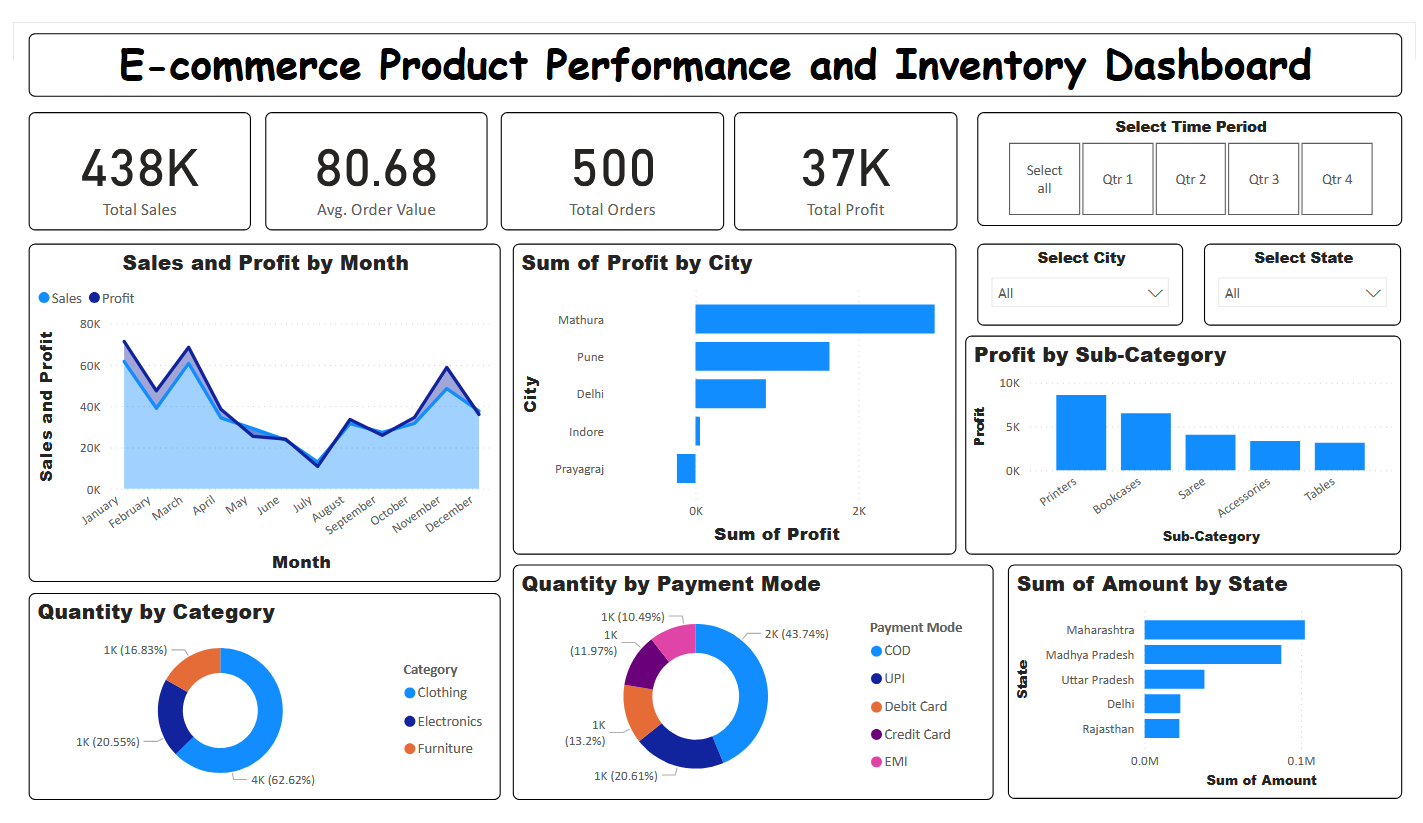

Layout of this report page (visuals, bound fields, positions):
{"tool":"powerbi","page":{"name":"Page 1","canvas":[1280,720],"ordinal":0},"visuals":[{"type":"textbox","box":[13.8,10,1253.8,57.5],"z":0},{"type":"stackedAreaChart","fields":{"Category":["Orders.Order Date.Variation.Date Hierarchy.Month"],"Y":["Sum(Details.Amount)","Sum(Details.Profit)"]},"box":[14.3,202.4,431,308.3],"z":1000},{"type":"columnChart","fields":{"Category":["Details.Sub-Category"],"Y":["Sum(Details.Profit)"]},"box":[869.1,285.7,397.6,200],"z":2000},{"type":"donutChart","fields":{"Category":["Details.Category"],"Y":["Sum(Details.Quantity)"]},"box":[13.8,521.2,431.2,188.8],"z":3000},{"type":"donutChart","fields":{"Category":["Details.PaymentMode"],"Y":["Sum(Details.Quantity)"]},"box":[456,495.2,439.3,214.3],"z":4000},{"type":"card","fields":{"Values":["Count(Details.Order ID)"]},"box":[445.2,82.1,203.6,108.3],"z":5000},{"type":"card","fields":{"Values":["Sum(Details.Amount)"]},"box":[14.3,82.1,202.4,108.3],"z":6000},{"type":"card","fields":{"Values":["Sum(Details.Profit)"]},"box":[658.3,82.1,203.6,108.3],"z":7000},{"type":"card","fields":{"Values":["Avg(Details.AOV)"]},"box":[229.8,82.1,203.6,108.3],"z":8000},{"type":"barChart","fields":{"Category":["Orders.State"],"Y":["Sum(Details.Amount)"]},"box":[907.5,495,360,213.8],"z":9000},{"type":"barChart","fields":{"Category":["Orders.City"],"Y":["Sum(Details.Profit)"]},"box":[456,202.4,404.8,283.3],"z":10000},{"type":"slicer","title":"Select Time Period","fields":{"Values":["Orders.Order Date.Variation.Date Hierarchy.Quarter"]},"box":[879.8,82.1,388.1,103.6],"z":11000},{"type":"slicer","title":"Select State","fields":{"Values":["Orders.State"]},"box":[1086.9,202.4,179.8,75],"z":12000},{"type":"slicer","title":"Select City","fields":{"Values":["Orders.City"]},"box":[879.8,202.4,188.1,75],"z":13000}]}

Visuals, with their boxes in screenshot pixels (x1, y1, x2, y2), scaled from the page's 1280x720 canvas onto the 1423x823 screenshot:
textbox: rect(15, 11, 1409, 77)
stackedAreaChart - Orders.Order Date.Variation.Date Hierarchy.Month x Sum(Details.Amount): rect(16, 231, 495, 584)
columnChart - Details.Sub-Category x Sum(Details.Profit): rect(966, 327, 1408, 555)
donutChart - Details.Category x Sum(Details.Quantity): rect(15, 596, 495, 812)
donutChart - Details.PaymentMode x Sum(Details.Quantity): rect(507, 566, 995, 811)
card - Count(Details.Order ID): rect(495, 94, 721, 218)
card - Sum(Details.Amount): rect(16, 94, 241, 218)
card - Sum(Details.Profit): rect(732, 94, 958, 218)
card - Avg(Details.AOV): rect(255, 94, 482, 218)
barChart - Orders.State x Sum(Details.Amount): rect(1009, 566, 1409, 810)
barChart - Orders.City x Sum(Details.Profit): rect(507, 231, 957, 555)
"Select Time Period" slicer: rect(978, 94, 1410, 212)
"Select State" slicer: rect(1208, 231, 1408, 317)
"Select City" slicer: rect(978, 231, 1187, 317)
